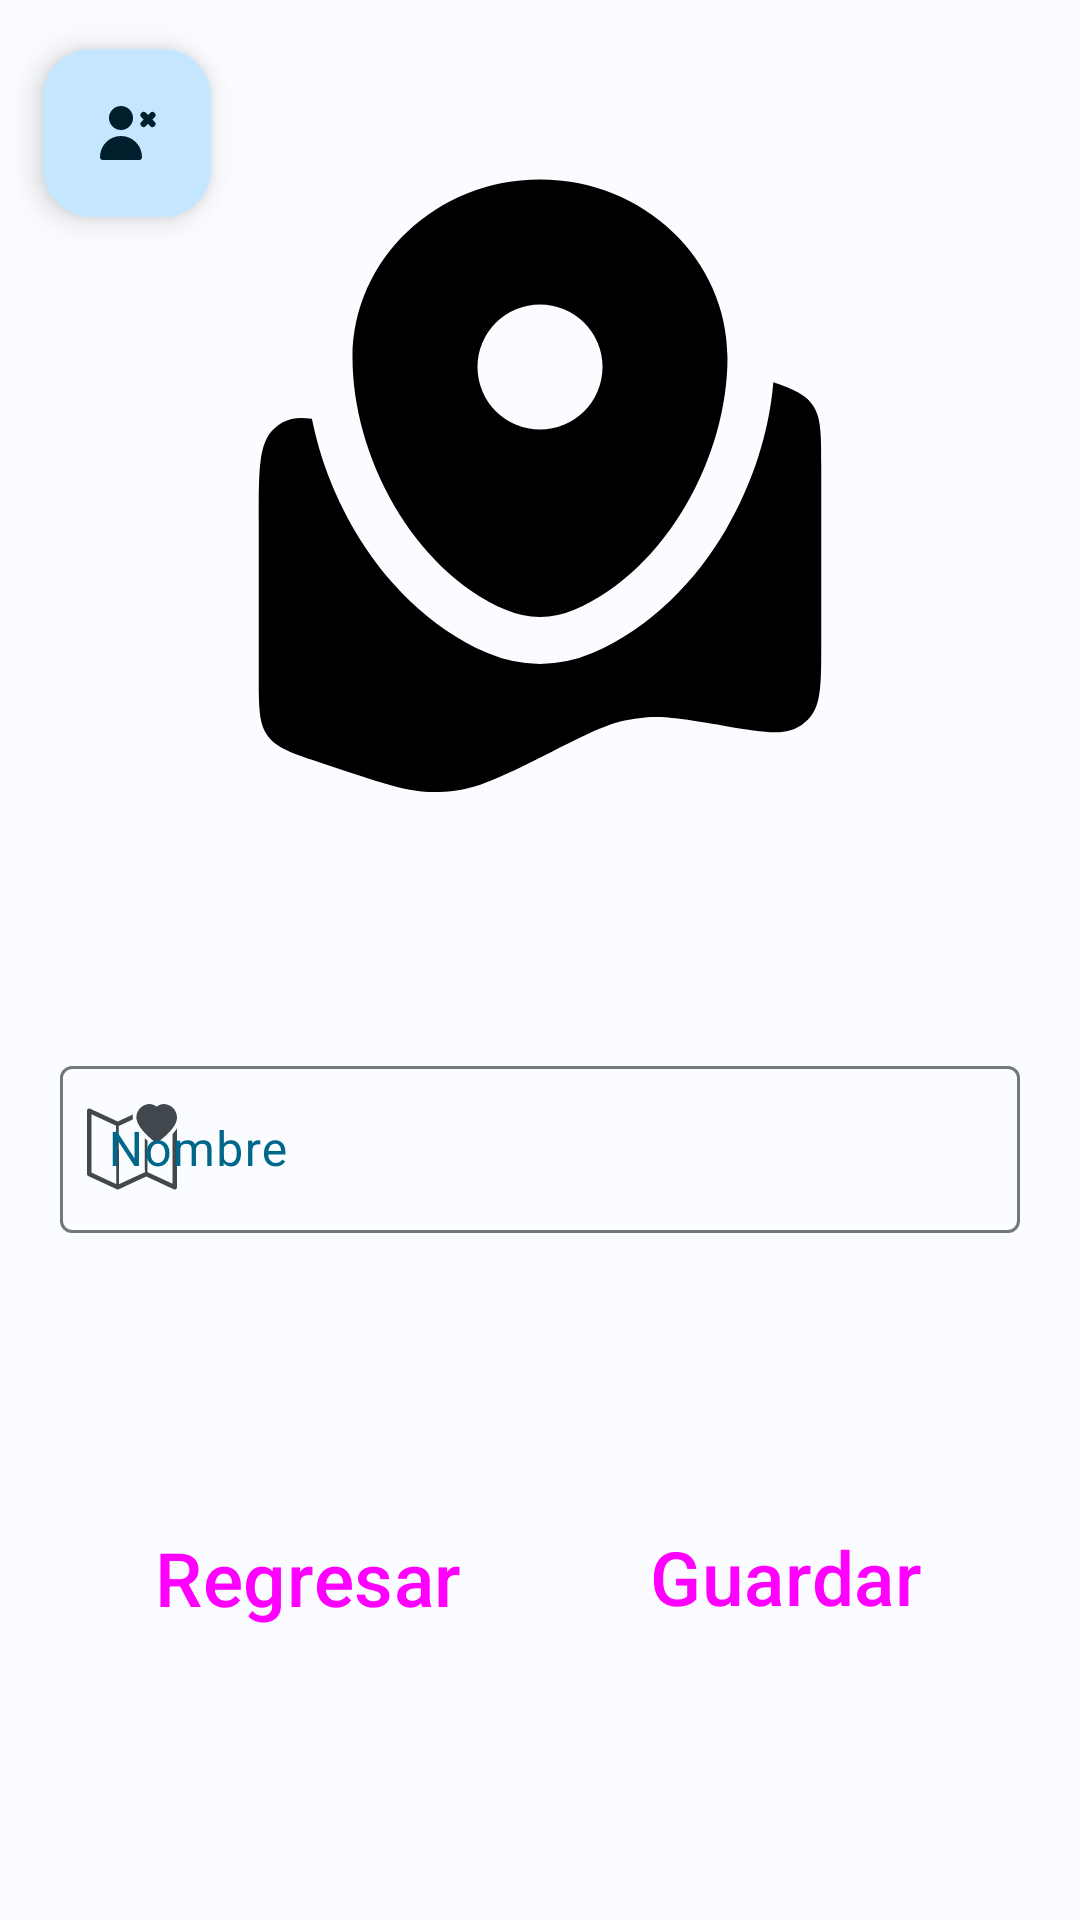

Icons on this 1080*1920 Android screen, each with its box as (x1, y1, x2, y2):
deletepersonicon: (43, 49, 211, 217)
